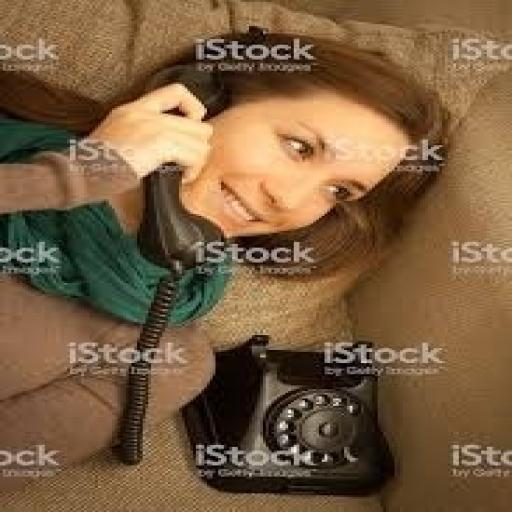calling: (0, 26, 450, 486)
